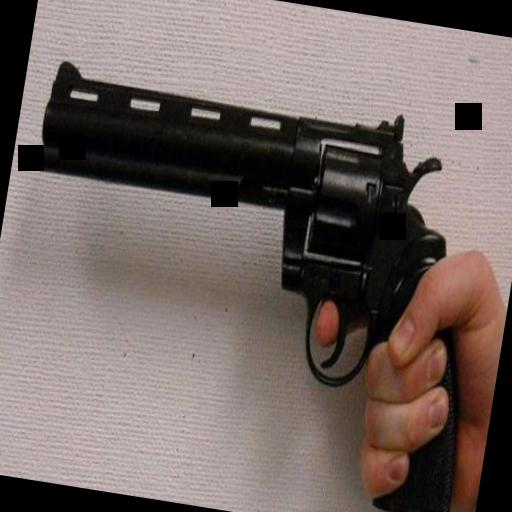Handgun: (0, 49, 508, 512)
